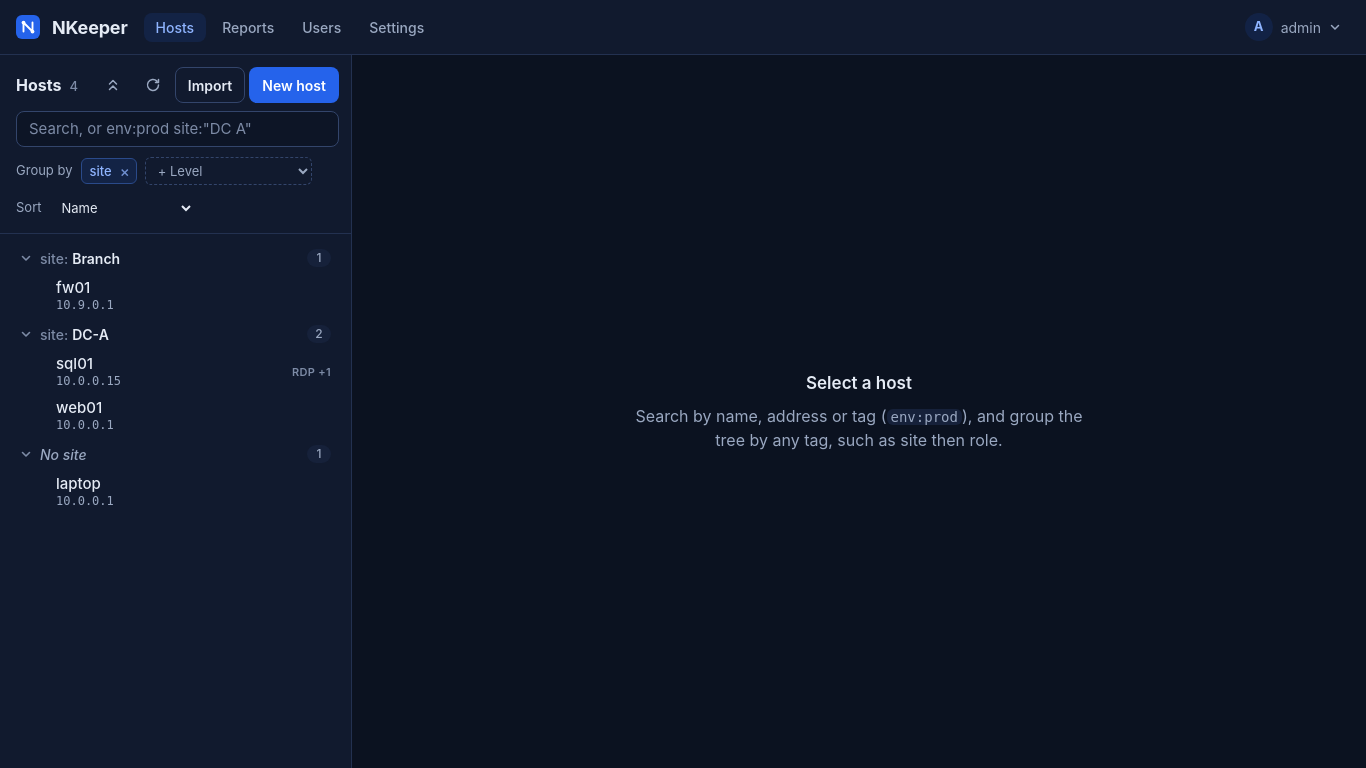
Test: workspace › groups the tree by a tag from the URL, with untagged hosts last, and collapses groups
Check: the button "site:Branch 1" is shown, box [8,242,343,274]
Check: the button "No site 1" is shown, box [8,438,343,470]
Click the button "site:DC-A 2": (90, 334) [8,318,343,350]
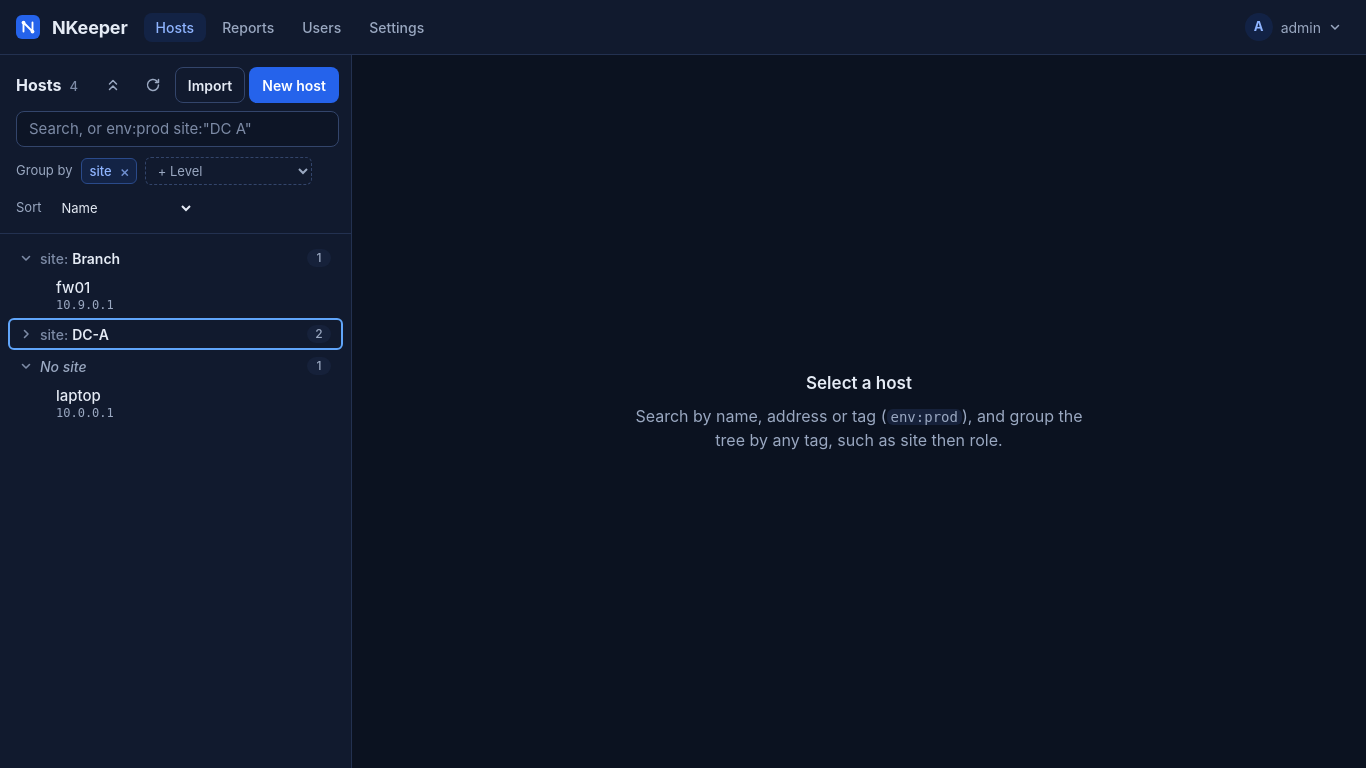
Check: the button "site:DC-A 2" is collapsed, box [8,318,343,350]
